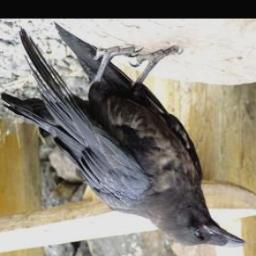Crow: (0, 25, 247, 250)
